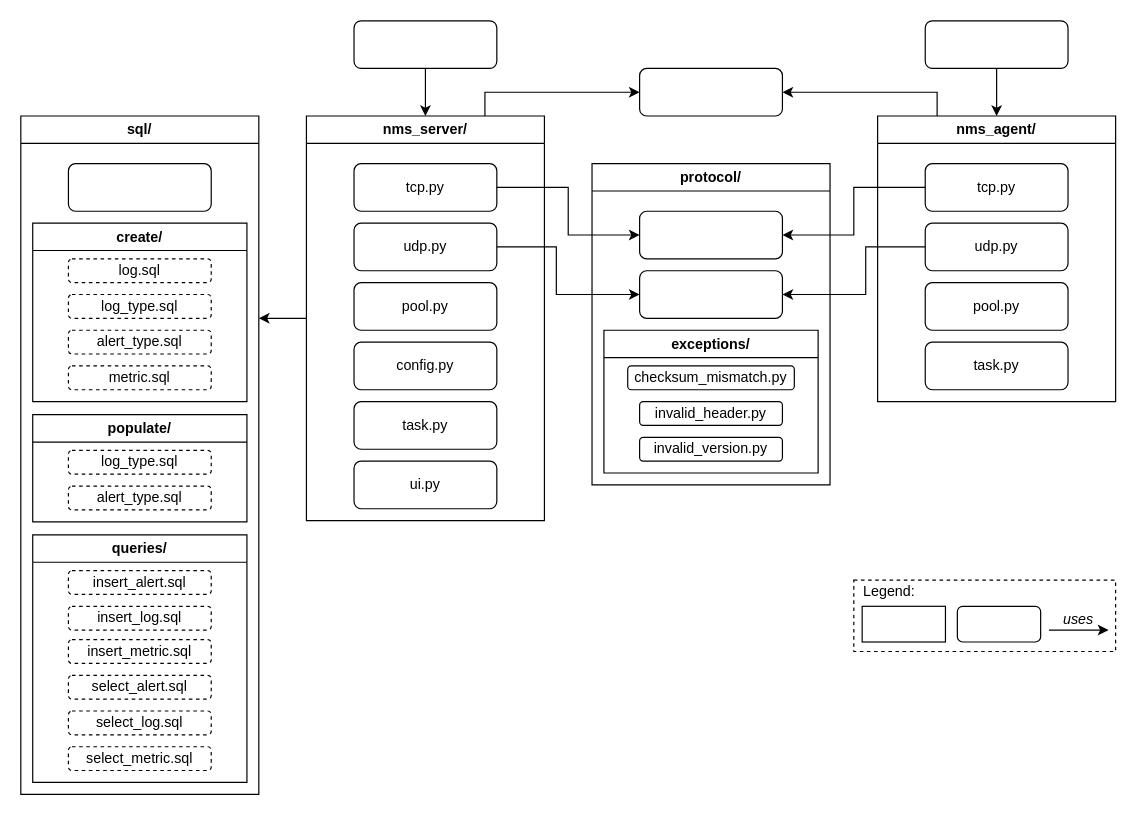
Image size: 1139x815. Some labels were removed from this diagram. Each missing label, with the centre of its shape:
alert_flow.py: the point at 710,234
constants.py: the point at 710,91
database.py: the point at 139,186
executable: the point at 903,623
module: the point at 998,623
net_task.py: the point at 710,294
nms_agent.py: the point at 996,44
nms_server.py: the point at 425,44
